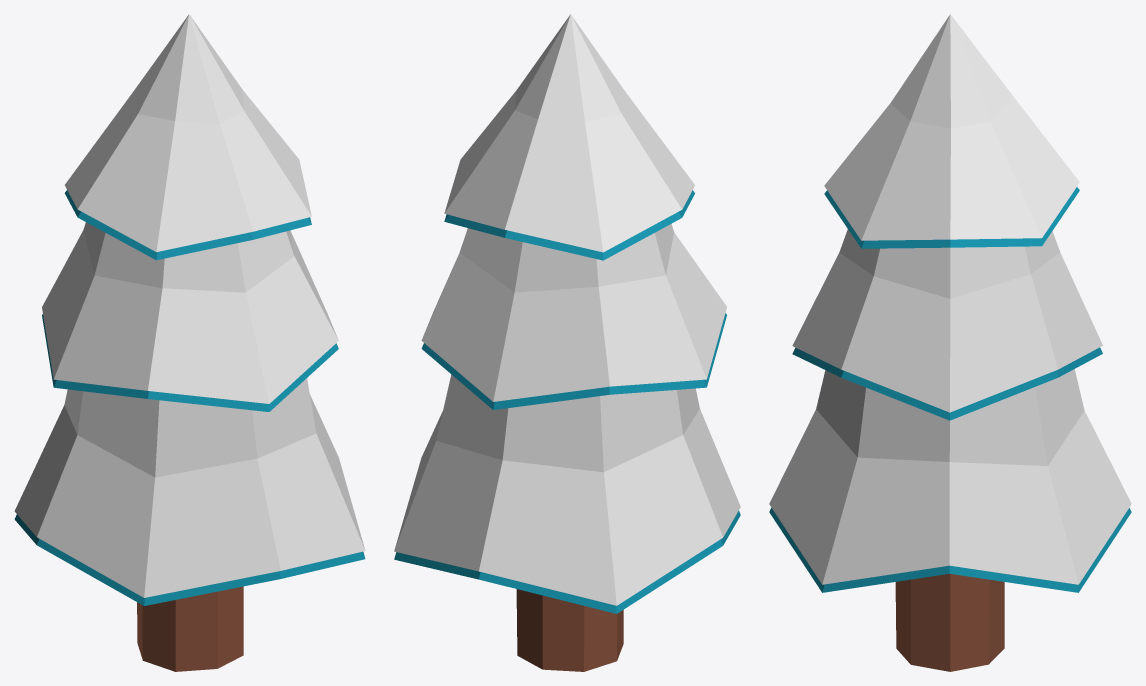
File: Tree_01_winter_blue.fbx
3 renders of one model, left to right at view 1: azimuth 30°, elevation 25°; view 2: azimuth 150°, elevation 25°; view 3: azimuth 270°, elevation 25°, orthographic.
Visible parts, largest first — view 1: Tree_01_winter_blue; view 2: Tree_01_winter_blue; view 3: Tree_01_winter_blue.
Part boxes in pixels (x1=…): Tree_01_winter_blue: x1=14, y1=14, x2=365, y2=671; Tree_01_winter_blue: x1=394, y1=14, x2=740, y2=671; Tree_01_winter_blue: x1=769, y1=14, x2=1131, y2=671.
Bounding box in the file's own units: 83.22 × 167 × 86.78.
